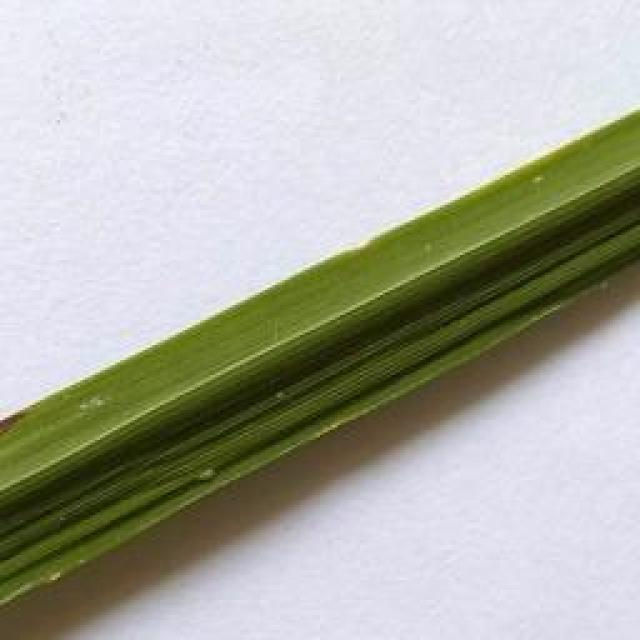Brown_Spot: (0, 402, 40, 434)
